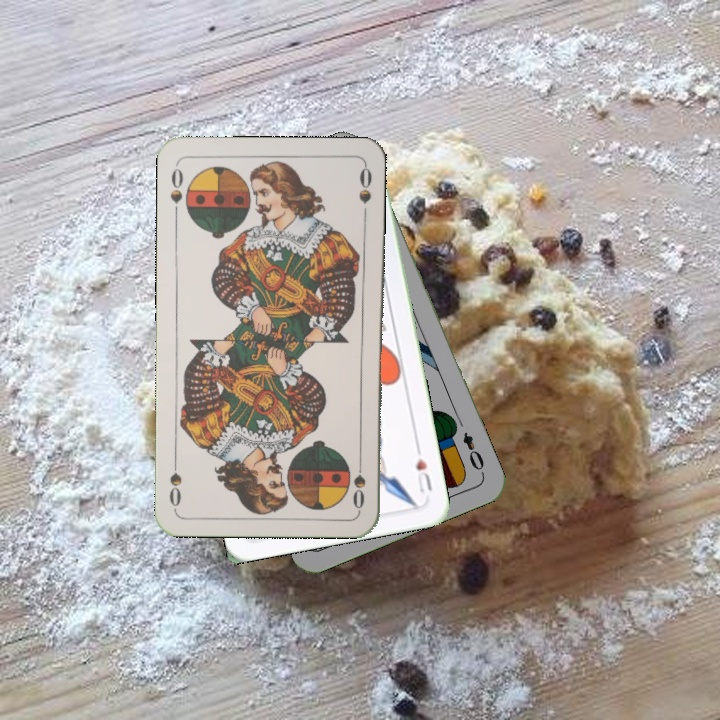EO: (458, 428, 487, 478)
HU: (411, 453, 435, 497)
SO: (348, 452, 368, 511), (167, 161, 186, 220)
